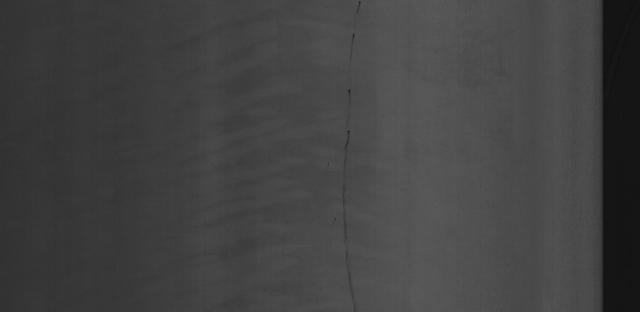inclusion: (326, 6, 379, 304)
